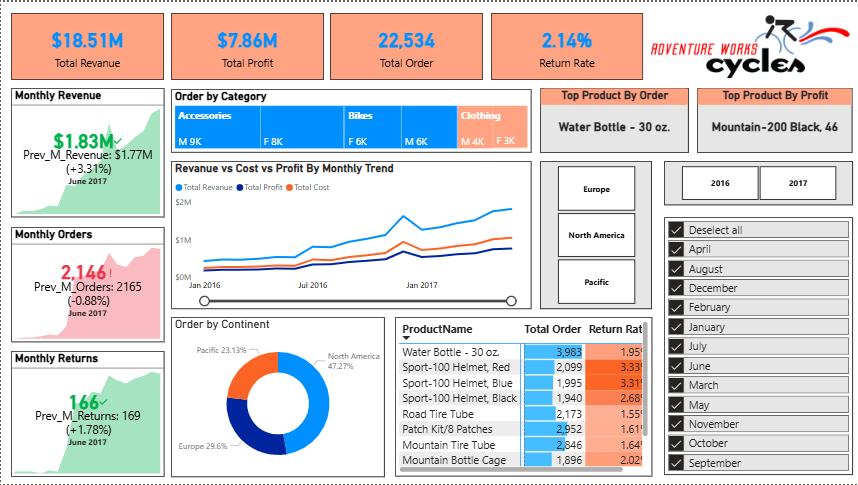

Layout of this report page (visuals, bound fields, positions):
{"tool":"powerbi","page":{"name":"Executive Summary","canvas":[1280,720],"ordinal":6},"visuals":[{"type":"card","fields":{"Values":["Sales Data.Total Revanue"]},"box":[14.6,16.1,228.3,99.5],"z":0},{"type":"image","box":[970.2,16.1,300,99.5],"z":1000},{"type":"card","fields":{"Values":["Sales Data.Total Profit"]},"box":[253.2,16.1,228.3,99.5],"z":2000},{"type":"card","fields":{"Values":["Sales Data.Total Order"]},"box":[491.7,16.1,228.3,99.5],"z":3000},{"type":"card","fields":{"Values":["Returns.Return Rate"]},"box":[731.7,16.1,226.8,99.5],"z":4000},{"type":"kpi","title":"Monthly Revenue","fields":{"Indicator":["Sales Data.Total Revanue"],"Goal":["Sales Data.Prev Month Revenue"],"TrendLine":["Calendar.Start of Month"]},"box":[14.3,128.7,228.8,193.1],"z":5000},{"type":"kpi","title":"Monthly Orders","fields":{"TrendLine":["Calendar.Start of Month"],"Indicator":["Sales Data.Total Order"],"Goal":["Sales Data.Prev Month Orders"]},"box":[14.3,336.1,228.8,171.6],"z":6000},{"type":"kpi","title":"Monthly Returns","fields":{"TrendLine":["Calendar.Start of Month"],"Indicator":["Returns.Total Returned"],"Goal":["Returns.Prev Month REturned"]},"box":[14.3,520.2,228.8,187.7],"z":7000},{"type":"treemap","title":"Order by Category","fields":{"Group":["Product_Categories_lookup.CategoryName"],"Values":["Sales Data.Total Order"],"Details":["Customers_Lookup.Gender"]},"box":[253.9,130.5,538.1,94.7],"z":8000},{"type":"lineChart","title":"Revanue vs Cost vs Profit By Monthly Trend","fields":{"Y":["Sales Data.Total Revanue","Sales Data.Total Profit","Sales Data.Total Cost"],"Category":["Calendar.Start of Month.Variation.Date Hierarchy.Year","Calendar.Start of Month.Variation.Date Hierarchy.Quarter","Calendar.Start of Month.Variation.Date Hierarchy.Month","Calendar.Start of Month.Variation.Date Hierarchy.Day"]},"box":[253.5,237,538,220.5],"z":9000},{"type":"donutChart","title":"Order by Continent","fields":{"Y":["Sales Data.Total Order"],"Category":["Territories_Lookup.Continent"]},"box":[253.5,470,319.5,239.1],"z":10000},{"type":"pivotTable","fields":{"Rows":["Products_Lookup.ProductName"],"Values":["Sales Data.Total Order","Returns.Return Rate"]},"box":[587.5,470.4,383.6,238.2],"z":11000},{"type":"card","title":"Top Product By Order","fields":{"Values":["Min(Products_Lookup.ProductName)"]},"box":[804.5,128.7,221.7,96.5],"z":12000},{"type":"card","title":"Top Product By Profit","fields":{"Values":["Min(Products_Lookup.ProductName)"]},"box":[1038.7,128.7,232.4,96.5],"z":13000},{"type":"slicer","fields":{"Values":["Calendar.Year"]},"box":[989.4,237,282.4,66],"z":14000},{"type":"listSlicer","fields":{"Values":["Calendar.Month Name"]},"box":[989.4,321.5,282.4,385.4],"z":15000},{"type":"slicer","fields":{"Values":["Territories_Lookup.Continent"]},"box":[803.9,237,167,220.5],"z":16000}]}

Visuals, with their boxes in screenshot pixels (x1, y1, x2, y2), scaled from the page's 1280x720 canvas onto the 858x485 screenshot:
card - Sales Data.Total Revanue: BBox(10, 11, 163, 78)
image: BBox(650, 11, 851, 78)
card - Sales Data.Total Profit: BBox(170, 11, 323, 78)
card - Sales Data.Total Order: BBox(330, 11, 483, 78)
card - Returns.Return Rate: BBox(490, 11, 642, 78)
"Monthly Revenue" kpi: BBox(10, 87, 163, 217)
"Monthly Orders" kpi: BBox(10, 226, 163, 342)
"Monthly Returns" kpi: BBox(10, 350, 163, 477)
"Order by Category" treemap: BBox(170, 88, 531, 152)
"Revanue vs Cost vs Profit By Monthly Trend" lineChart: BBox(170, 160, 531, 308)
"Order by Continent" donutChart: BBox(170, 317, 384, 478)
pivotTable - Products_Lookup.ProductName x Sales Data.Total Order: BBox(394, 317, 651, 477)
"Top Product By Order" card: BBox(539, 87, 688, 152)
"Top Product By Profit" card: BBox(696, 87, 852, 152)
slicer - Calendar.Year: BBox(663, 160, 853, 204)
listSlicer - Calendar.Month Name: BBox(663, 217, 853, 476)
slicer - Territories_Lookup.Continent: BBox(539, 160, 651, 308)
